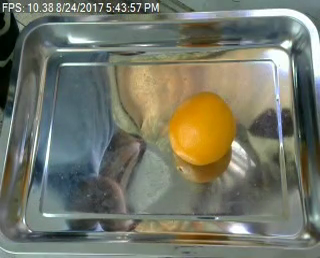Orange: (168, 90, 235, 164)
